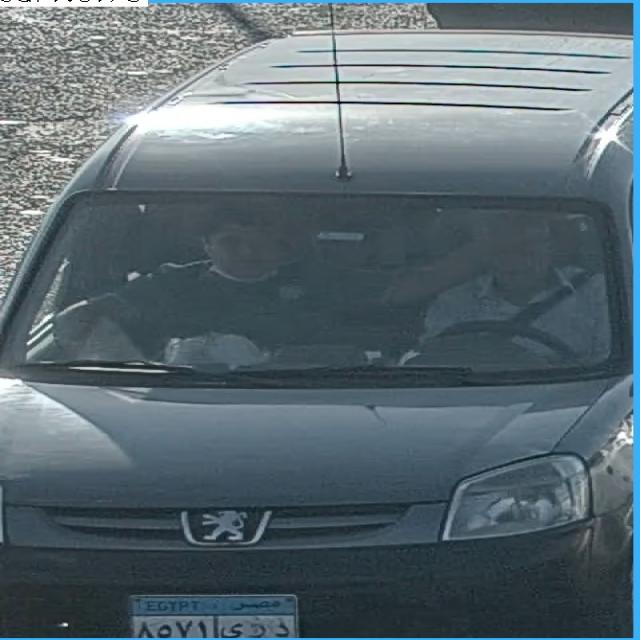windshield: (14, 204, 618, 376)
